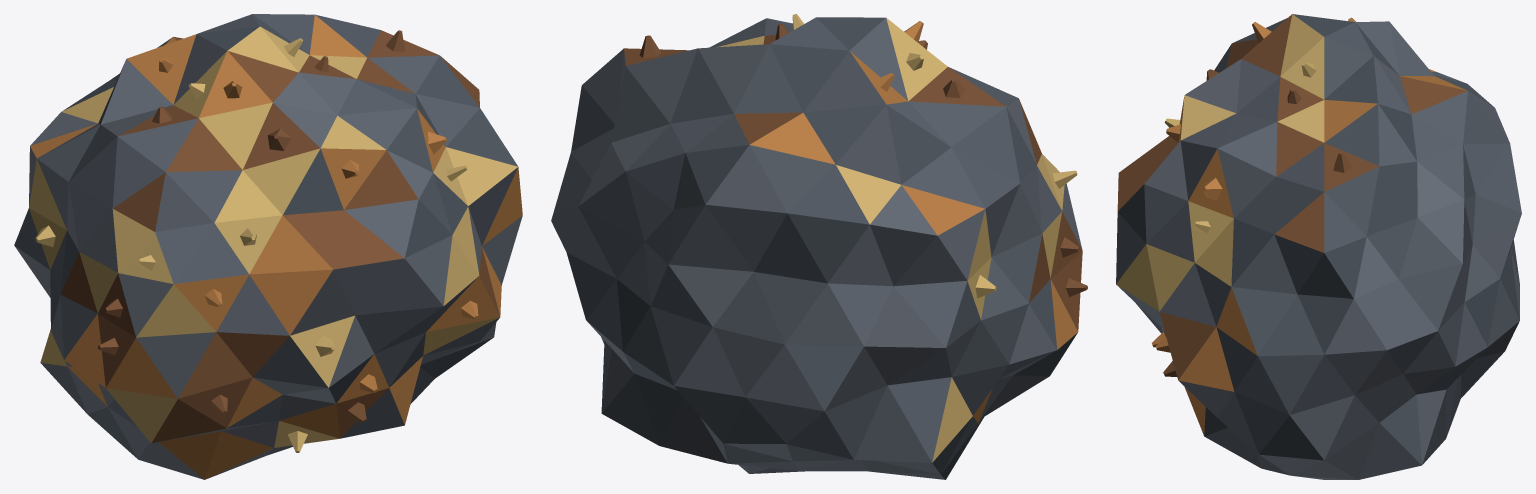
The model's file is ore_asteroid.glb.
3 renders of one model, left to right at view 1: azimuth 30°, elevation 25°; view 2: azimuth 150°, elevation 25°; view 3: azimuth 270°, elevation 25°, orthographic. The views are drawn at different scales.
Parts seen in each view (by area): view 1: Ore asteroid | fractured basalt; view 2: Ore asteroid | fractured basalt; view 3: Ore asteroid | fractured basalt.
Boxes of the visible parts, x1,y1,x2,y2 form: Ore asteroid | fractured basalt: (14,14,522,479); Ore asteroid | fractured basalt: (551,17,1082,479); Ore asteroid | fractured basalt: (1116,14,1521,479).
Bounding box in the file's own units: 4.09 × 3.8 × 3.39.
